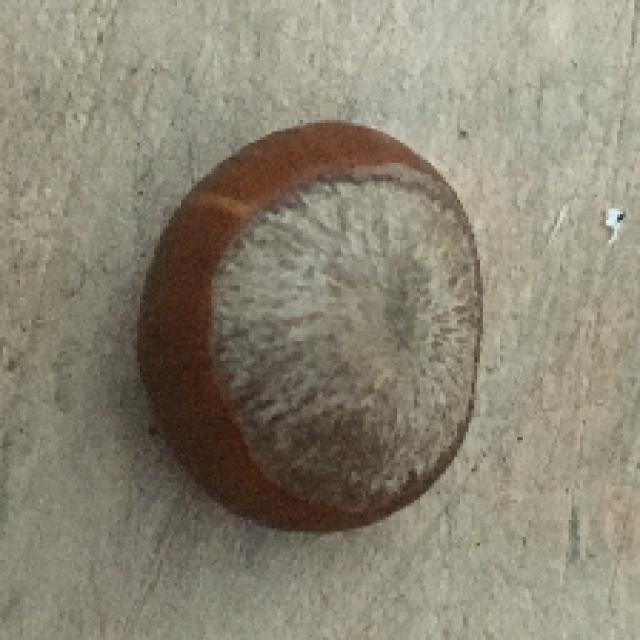qualityHazelnut: (130, 113, 489, 536)
